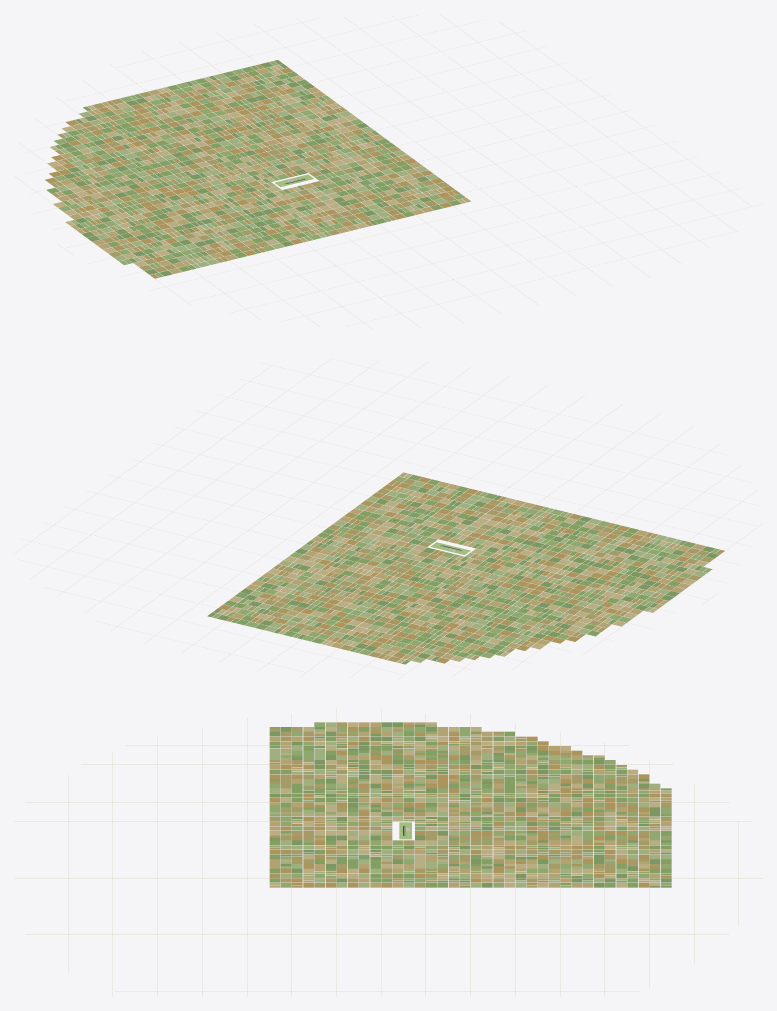
File: land.glb
The picture shows the model from 3 angles, top to bottom: view 1: azimuth 30°, elevation 25°; view 2: azimuth 150°, elevation 25°; view 3: azimuth 270°, elevation 25°; orthographic projection. The views are drawn at different scales.
Visible parts, largest first — view 1: decal-fields, decal-roads; view 2: decal-fields, decal-roads; view 3: decal-fields, decal-roads.
Part boxes in pixels (box(x1,y1,x2,y2)): decal-fields: box(45, 60, 470, 278); decal-roads: box(15, 14, 762, 328); decal-fields: box(207, 472, 724, 664); decal-roads: box(14, 358, 762, 679); decal-fields: box(269, 722, 671, 887); decal-roads: box(14, 709, 762, 996).
Bounding box in the file's own units: 80740 × 34 × 88440.
